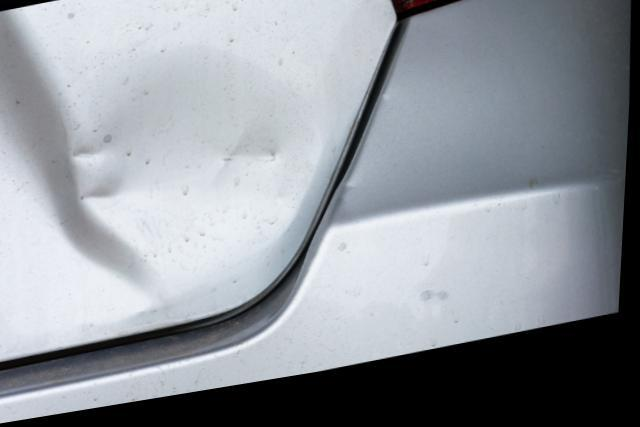dent: (73, 52, 317, 294), (0, 9, 163, 331)
